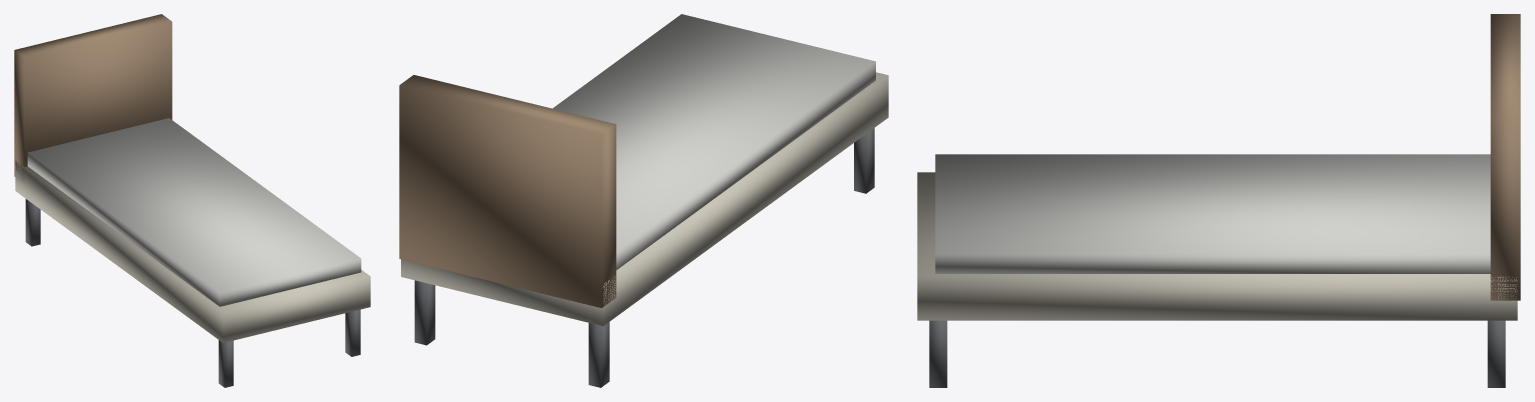
Rendered from single_bed__deep.glb.
3 renders of one model, left to right at view 1: azimuth 30°, elevation 25°; view 2: azimuth 150°, elevation 25°; view 3: azimuth 270°, elevation 25°, orthographic. The views are drawn at different scales.
Visible parts, largest first — view 1: world; view 2: world; view 3: world.
Part boxes in pixels (box(x1,y1,x2,y2)): world: box(14, 14, 370, 387); world: box(399, 14, 888, 387); world: box(917, 14, 1520, 387).
Size of the model in its own units: 1 by 1.23 by 2.45.
